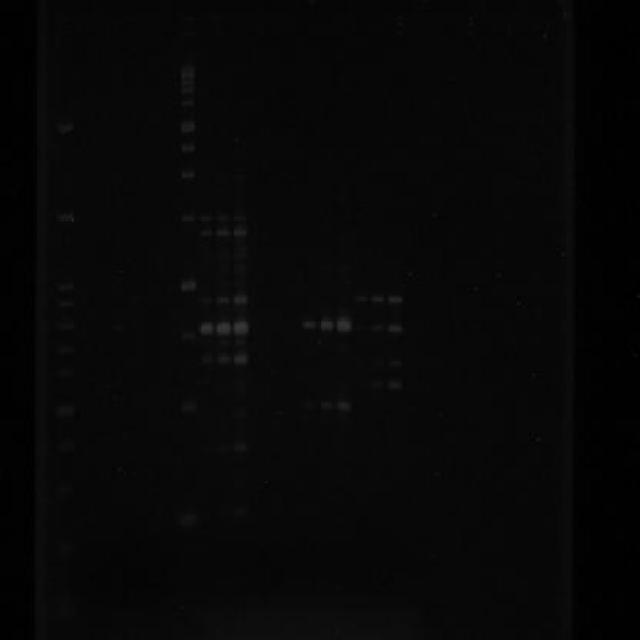B: (336, 314, 352, 336), (318, 316, 336, 333), (232, 320, 250, 337), (300, 317, 318, 332), (214, 294, 232, 308), (386, 378, 404, 392), (300, 399, 318, 413), (230, 225, 248, 238), (232, 294, 248, 308), (200, 322, 216, 336), (216, 322, 230, 338), (232, 352, 248, 366), (318, 399, 334, 413), (232, 440, 248, 454), (232, 336, 248, 349), (386, 356, 402, 369), (200, 294, 214, 308), (200, 352, 214, 366), (336, 400, 352, 412), (386, 323, 403, 334), (216, 227, 230, 240), (217, 352, 231, 365), (370, 379, 384, 392), (352, 293, 368, 304), (214, 213, 231, 222), (370, 323, 387, 332), (232, 212, 246, 222), (371, 294, 386, 303), (388, 296, 403, 304), (200, 214, 212, 223), (200, 230, 213, 238)
M: (178, 58, 200, 534)
P: (178, 513, 200, 529), (178, 167, 197, 184), (178, 276, 197, 292), (180, 116, 196, 135), (180, 401, 198, 416), (180, 328, 197, 342), (180, 210, 196, 224), (180, 140, 196, 154), (180, 60, 196, 74), (180, 99, 194, 108), (180, 80, 194, 86), (180, 74, 194, 80), (180, 89, 194, 94)
